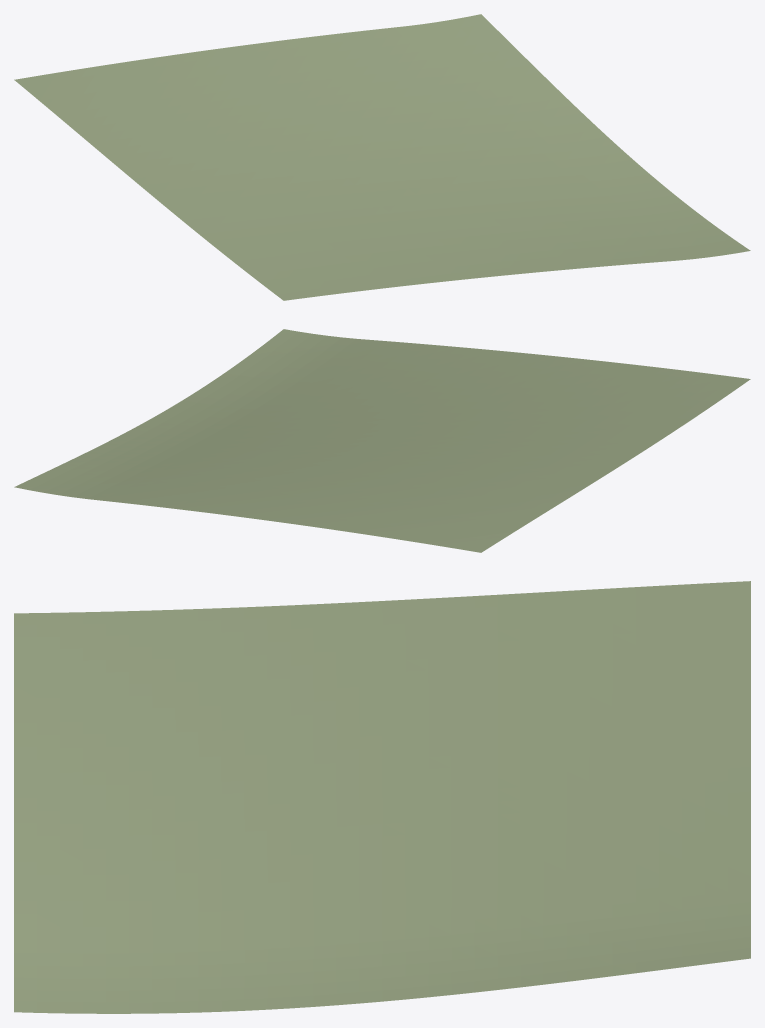
Rendered from expanse-23-15.glb.
3 renders of one model, top to bottom at view 1: azimuth 30°, elevation 25°; view 2: azimuth 150°, elevation 25°; view 3: azimuth 270°, elevation 25°, orthographic. The views are drawn at different scales.
Parts seen in each view (by area): view 1: expanse-23-15; view 2: expanse-23-15; view 3: expanse-23-15.
Part boxes in pixels (bbox=[...]): expanse-23-15: bbox=[14, 14, 750, 300]; expanse-23-15: bbox=[14, 329, 750, 552]; expanse-23-15: bbox=[14, 581, 750, 1013].
Bounding box in the file's own units: 256 × 46.49 × 256.
